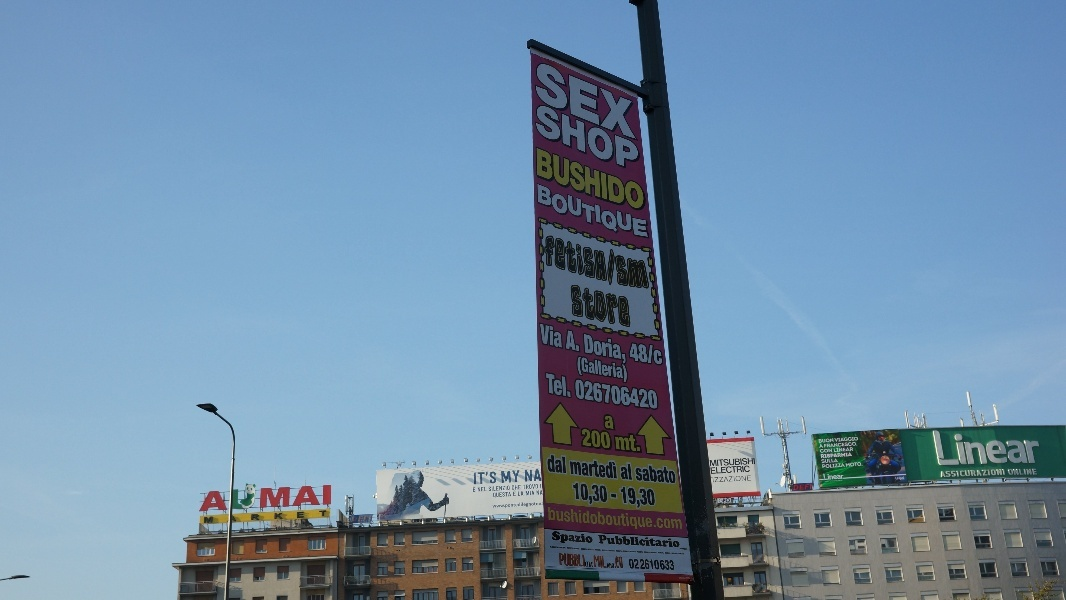text: (625, 59, 641, 145), (545, 59, 560, 145), (561, 59, 576, 145), (577, 59, 592, 145), (593, 59, 608, 145), (609, 59, 624, 145), (545, 102, 560, 176), (561, 102, 576, 176), (577, 102, 592, 176), (593, 102, 608, 176), (609, 102, 624, 176), (625, 102, 640, 176), (545, 146, 560, 215), (561, 146, 576, 215), (577, 146, 592, 215), (593, 146, 608, 215), (609, 146, 624, 215), (625, 146, 640, 215), (545, 231, 560, 297), (561, 231, 576, 297), (577, 231, 592, 297), (593, 231, 608, 297), (609, 231, 624, 297), (625, 231, 640, 297), (545, 180, 560, 245), (561, 180, 576, 245), (577, 180, 592, 245), (593, 180, 608, 245), (609, 180, 624, 245), (625, 180, 640, 245), (577, 283, 592, 330), (593, 283, 608, 330), (609, 283, 624, 330), (536, 59, 544, 145), (535, 102, 544, 176), (641, 231, 651, 297), (641, 180, 651, 245), (545, 370, 560, 413), (561, 370, 576, 413), (577, 370, 592, 413), (593, 370, 608, 413), (609, 370, 624, 413), (625, 370, 640, 413), (641, 370, 656, 413), (577, 328, 592, 370), (593, 328, 608, 370), (609, 328, 624, 370), (625, 328, 640, 370), (641, 328, 656, 370), (535, 146, 544, 215), (1025, 430, 1041, 467), (945, 430, 960, 467), (961, 430, 976, 467), (977, 430, 992, 467), (993, 430, 1008, 467), (1009, 430, 1024, 467), (225, 480, 240, 512), (241, 480, 256, 512), (257, 480, 272, 512), (273, 480, 288, 512), (289, 480, 304, 512), (305, 480, 320, 512), (561, 503, 576, 535), (577, 503, 592, 535), (593, 503, 608, 535), (609, 503, 624, 535), (625, 503, 640, 535), (641, 503, 656, 535), (657, 503, 672, 535), (577, 355, 592, 386), (593, 355, 608, 386), (609, 355, 624, 386), (537, 180, 544, 245), (545, 322, 560, 352), (546, 503, 560, 535), (932, 430, 944, 467), (566, 328, 576, 370), (577, 481, 592, 509), (593, 481, 608, 509), (609, 481, 624, 509), (625, 481, 640, 509), (641, 481, 656, 509), (673, 503, 686, 535), (625, 431, 641, 455), (568, 283, 576, 330), (577, 456, 592, 481), (593, 456, 608, 481), (593, 427, 608, 451), (213, 480, 224, 512), (321, 480, 332, 512), (546, 452, 560, 477), (641, 146, 646, 215), (641, 464, 656, 487), (657, 464, 672, 487), (657, 328, 665, 370), (625, 553, 640, 575), (641, 553, 656, 575), (657, 553, 672, 575), (625, 283, 632, 330), (561, 550, 576, 571), (577, 550, 592, 571), (593, 550, 608, 571), (609, 550, 624, 571), (609, 456, 621, 481), (580, 427, 592, 451), (612, 431, 624, 455), (673, 553, 686, 575), (609, 534, 624, 553), (625, 534, 640, 553), (641, 534, 656, 553), (657, 534, 672, 553), (561, 529, 576, 547), (577, 529, 592, 547), (657, 370, 663, 413), (481, 471, 497, 487), (561, 452, 571, 477), (625, 463, 636, 484), (209, 509, 224, 524), (225, 509, 240, 524), (241, 509, 256, 524), (257, 509, 272, 524), (273, 509, 288, 524), (289, 509, 304, 524), (305, 509, 320, 524), (529, 467, 543, 483), (568, 456, 576, 481), (500, 469, 512, 485), (625, 355, 631, 386), (538, 322, 544, 352), (609, 414, 618, 433), (599, 534, 608, 553), (673, 534, 682, 553), (721, 456, 736, 467), (737, 456, 752, 467), (945, 468, 960, 479), (961, 468, 976, 479), (977, 468, 992, 479), (551, 529, 560, 547), (993, 468, 1007, 479), (721, 465, 736, 475), (737, 465, 752, 475), (634, 464, 640, 487), (513, 469, 521, 485), (561, 322, 565, 352), (497, 491, 512, 499), (497, 501, 512, 509), (513, 501, 528, 509), (529, 501, 544, 509), (721, 475, 736, 483), (737, 475, 752, 483), (833, 436, 848, 444), (833, 461, 848, 469), (673, 464, 678, 487), (572, 481, 576, 509), (473, 471, 480, 487), (818, 436, 832, 444), (849, 461, 863, 469), (710, 456, 720, 467), (619, 463, 624, 484), (833, 442, 848, 449), (833, 452, 848, 459), (1009, 469, 1024, 476), (710, 465, 720, 475), (497, 485, 511, 492), (1025, 469, 1039, 476), (609, 427, 613, 451), (801, 484, 813, 492), (603, 414, 608, 433), (321, 509, 327, 524), (513, 491, 528, 497), (820, 442, 832, 449), (820, 452, 832, 459), (833, 474, 845, 481), (523, 467, 528, 483), (849, 436, 859, 444), (822, 461, 832, 469), (820, 448, 832, 454), (834, 448, 848, 453), (822, 474, 832, 481), (821, 458, 832, 464), (513, 484, 522, 491), (204, 509, 208, 524), (529, 484, 539, 490), (518, 491, 528, 497), (721, 498, 731, 504), (713, 475, 720, 483), (849, 442, 857, 449), (593, 529, 596, 547), (489, 485, 496, 492), (536, 490, 544, 496), (794, 484, 800, 492), (558, 550, 560, 571), (625, 550, 627, 571), (833, 458, 840, 464), (473, 488, 480, 493), (849, 452, 854, 459), (753, 456, 756, 467), (941, 468, 944, 479), (492, 491, 496, 499), (492, 501, 496, 509), (481, 487, 487, 492), (523, 484, 528, 490), (529, 491, 535, 496), (657, 481, 658, 509), (849, 448, 854, 453), (540, 484, 544, 489), (478, 487, 480, 492), (526, 491, 528, 496), (511, 484, 512, 491), (1007, 469, 1008, 476), (719, 498, 720, 504), (833, 448, 834, 454)
